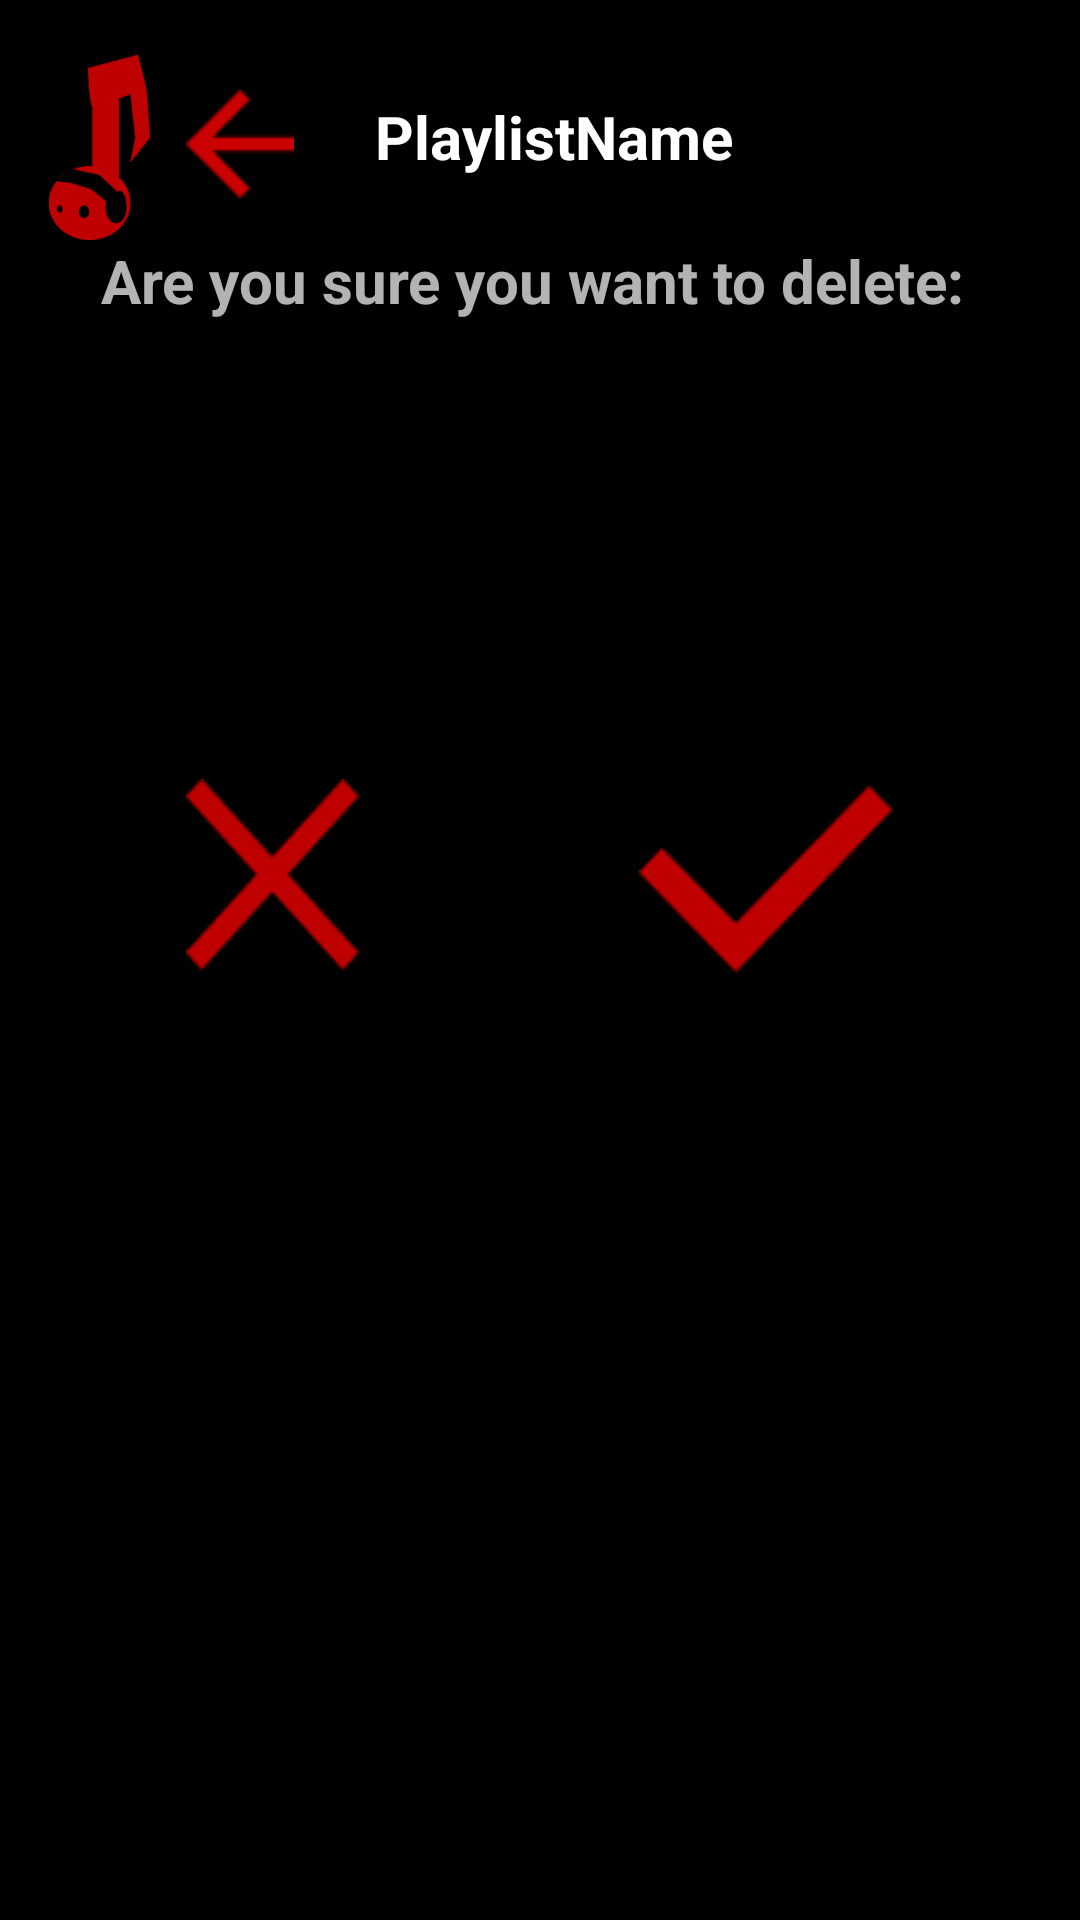

Named icons in this screenshot (1080 x 1920) and their centers, (x=x, y=y):
backward arrow: (x=240, y=144)
crosscross: (x=273, y=875)
tick: (x=765, y=879)
